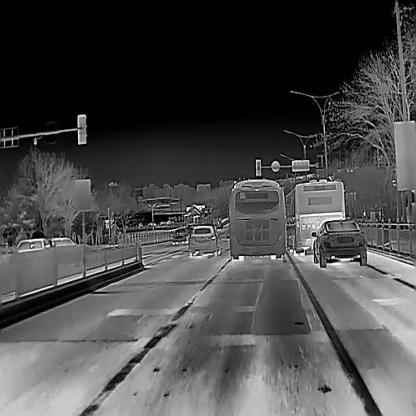bus: (285, 180, 345, 256), (229, 186, 285, 259)
car: (312, 218, 366, 267), (188, 223, 220, 257), (14, 237, 50, 252), (47, 236, 75, 247), (171, 228, 189, 244)
